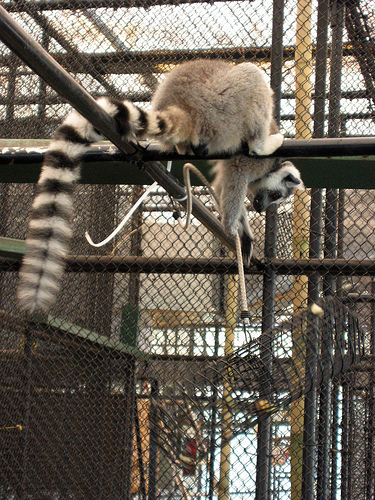cat: (13, 60, 306, 316)
